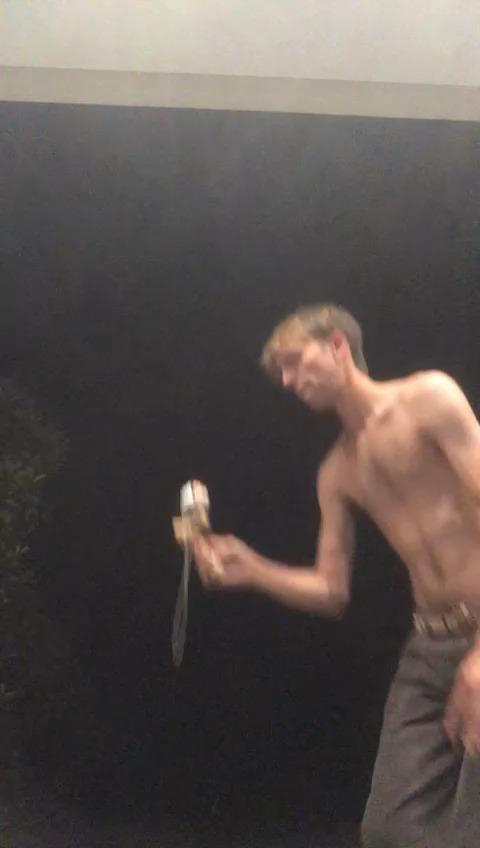kendama_ball: (180, 479, 210, 517)
